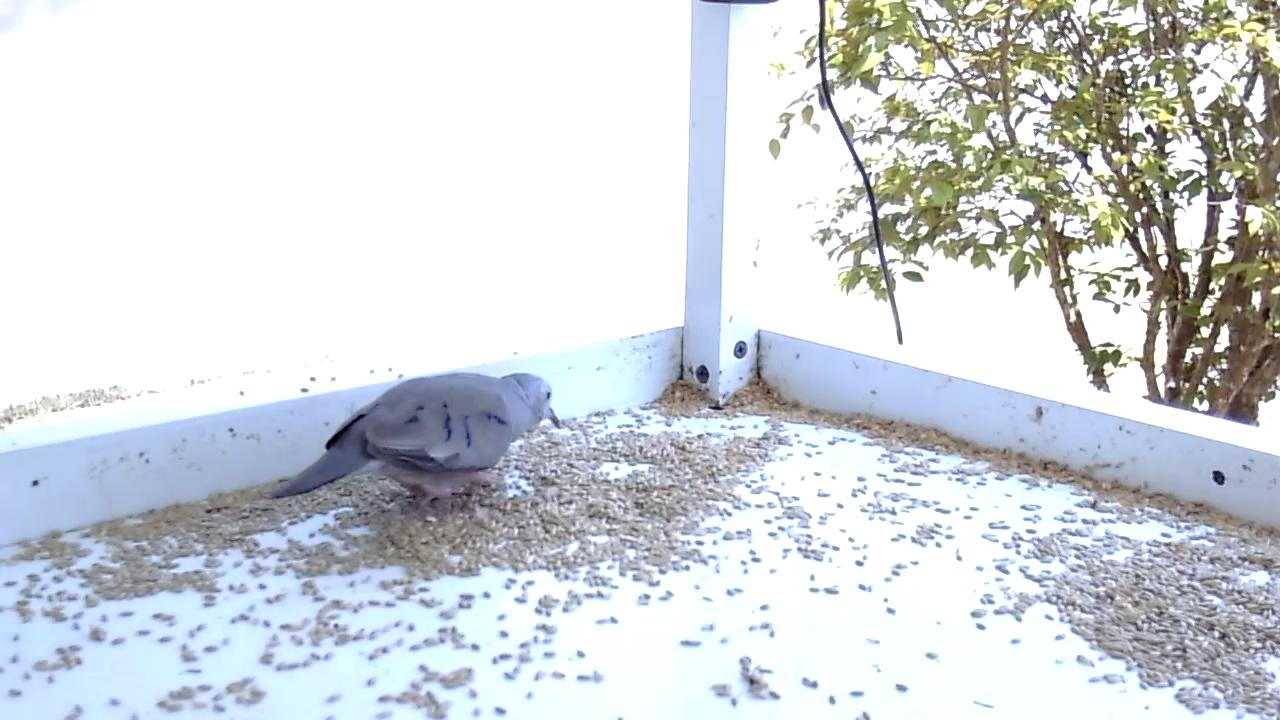rolinha: (267, 368, 565, 512)
